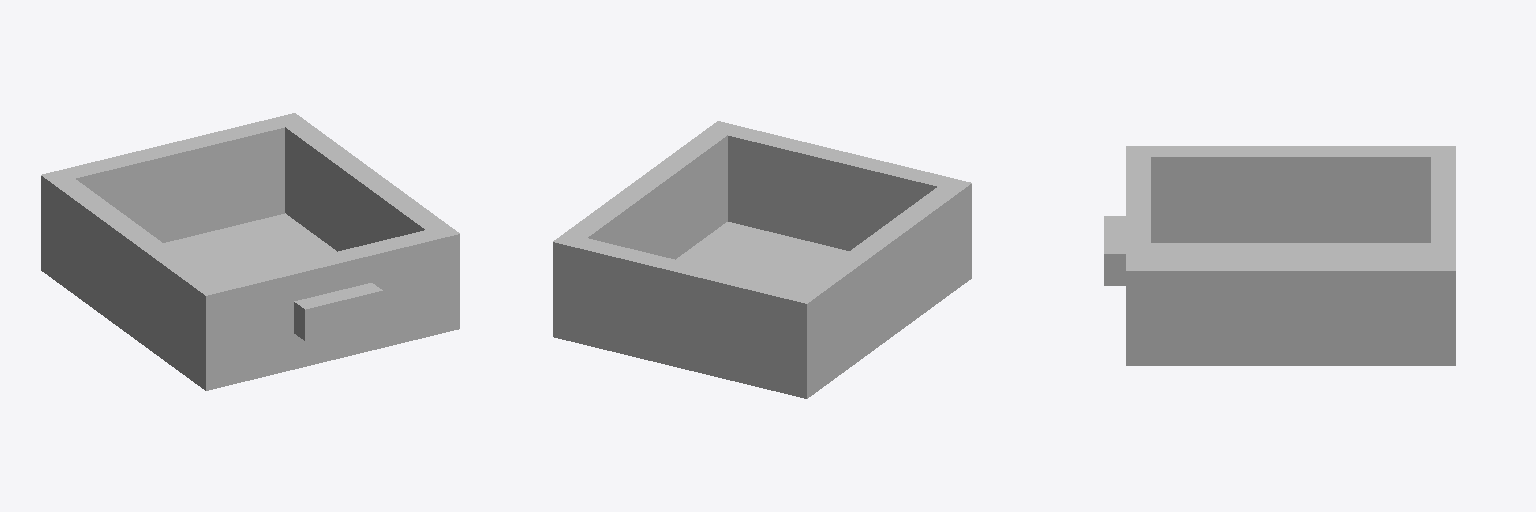
File: Shelf_Drawer.obj
3 views of the same model, side by side, from view 1: azimuth 30°, elevation 25°; view 2: azimuth 150°, elevation 25°; view 3: azimuth 270°, elevation 25° (orthographic).
Visible parts, largest first — view 1: Shelf_Drawer; view 2: Shelf_Drawer; view 3: Shelf_Drawer.
Part boxes in pixels (left/top/right/bottom): Shelf_Drawer: left=41, top=113, right=459, bottom=390; Shelf_Drawer: left=553, top=121, right=971, bottom=398; Shelf_Drawer: left=1104, top=146, right=1455, bottom=365.
Size of the model in its own units: 0.4446 by 0.1589 by 0.5336.